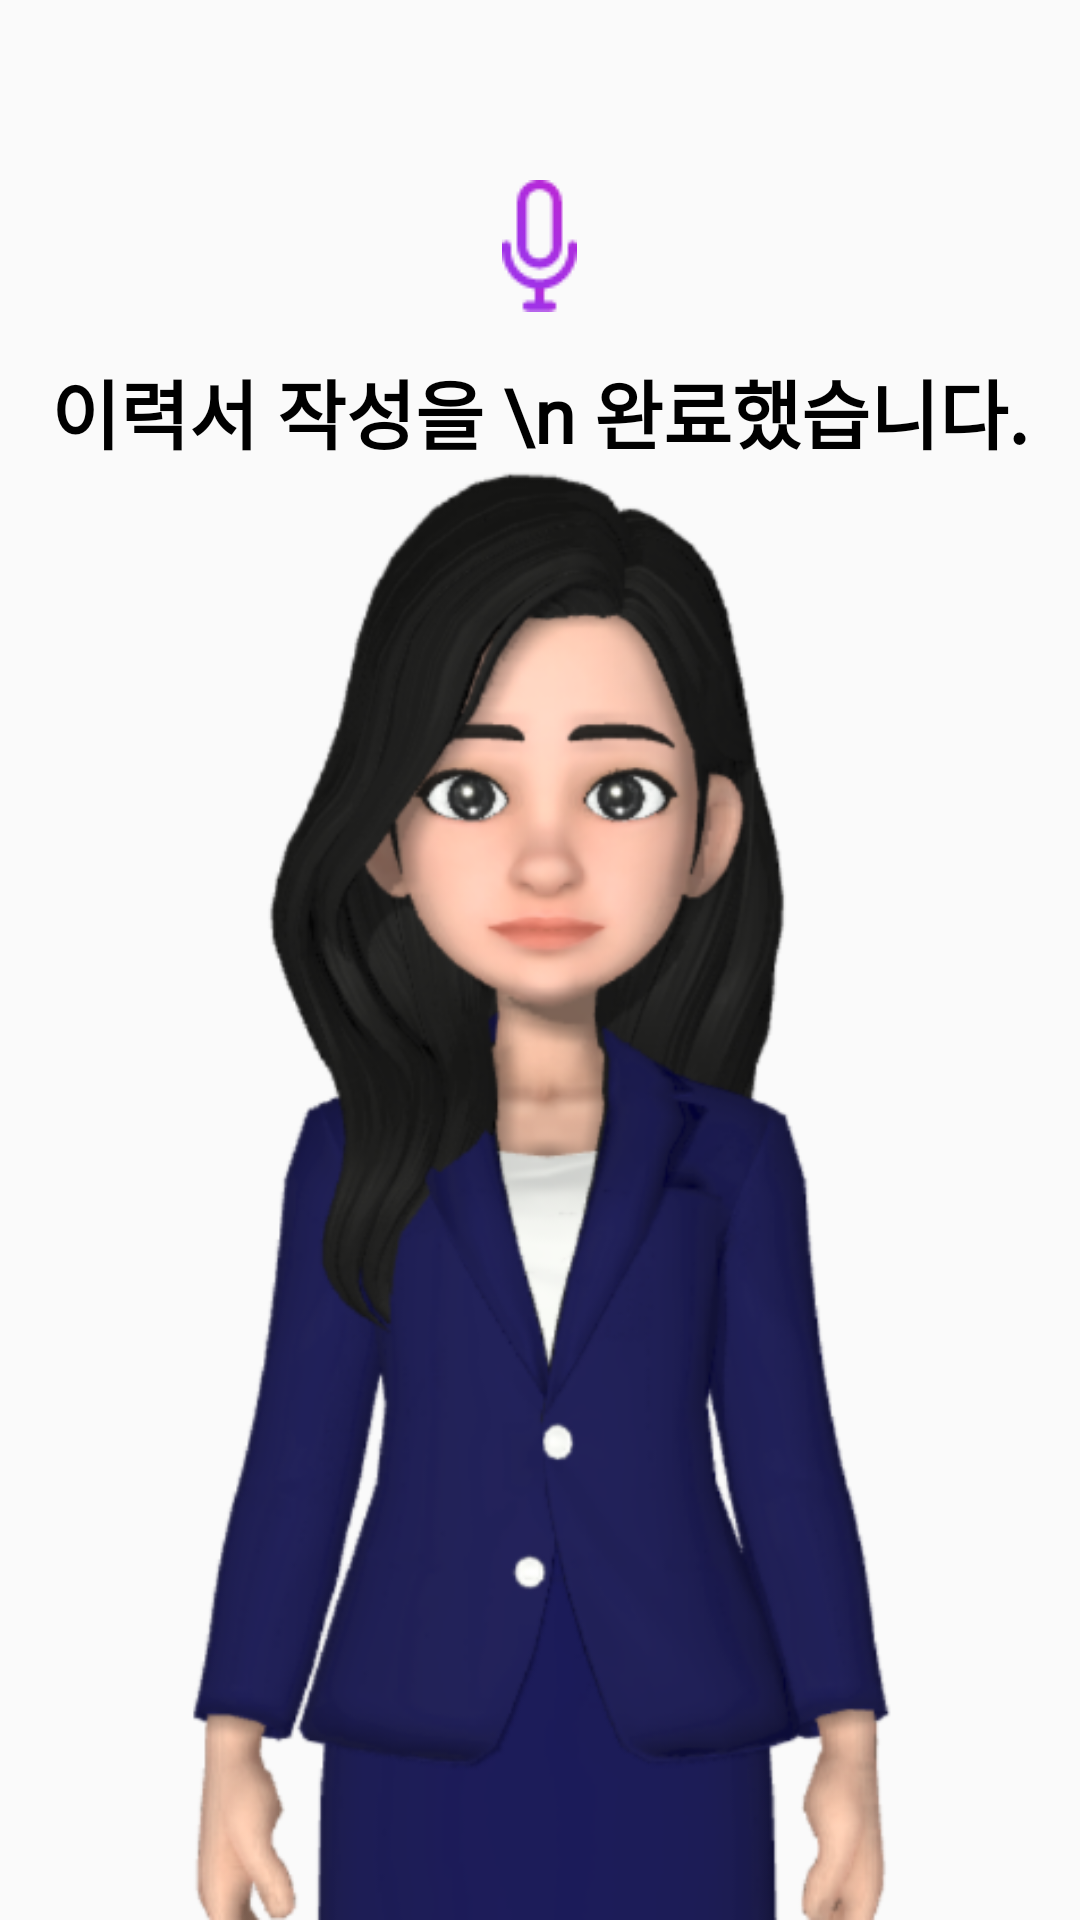

Screen size 1080x1920. Icon name, then its center in pixels as point (x, y):
mic: point (539, 246)
